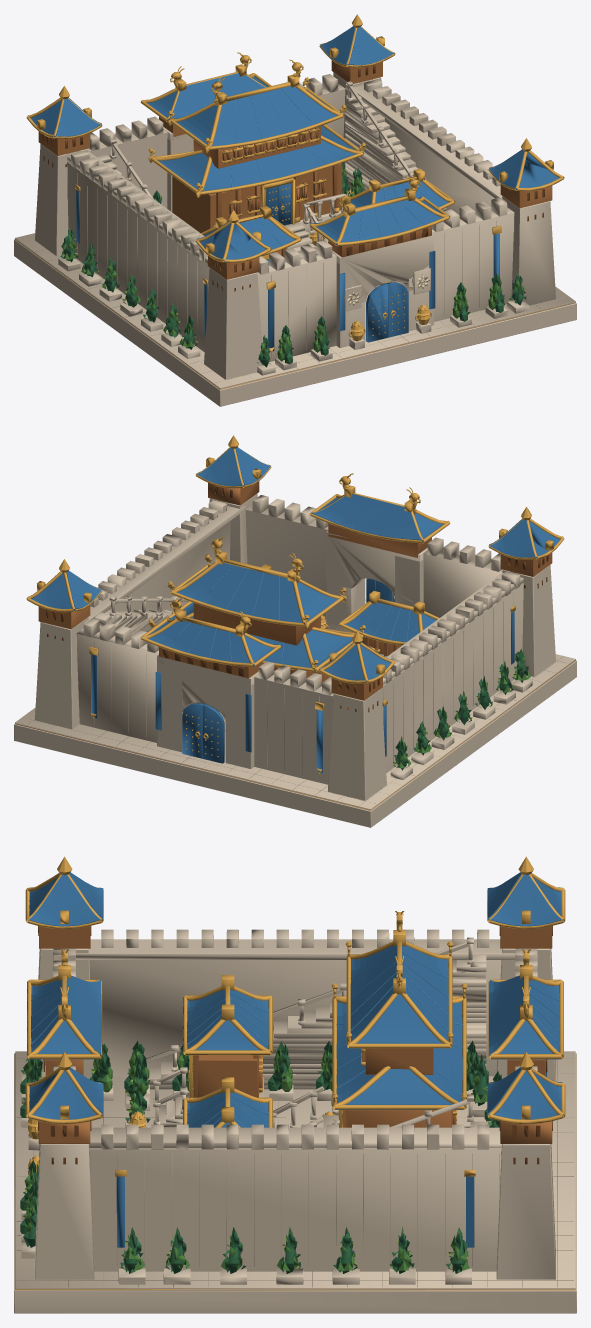
The model's file is city-4-lod1-ac9aa3760c98.glb.
3 renders of one model, top to bottom at view 1: azimuth 30°, elevation 25°; view 2: azimuth 150°, elevation 25°; view 3: azimuth 270°, elevation 25°, orthographic. The views are drawn at different scales.
Visible parts, largest first — view 1: SM_CT4_V4_Batch_106.003, SM_CT4_V4_Batch_9.003, SM_CT4_V4_Batch_105.003, SM_CT4_V4_Batch_7.003, SM_CT4_V4_Batch_102.003, SM_CT4_V4_Batch_103.003, SM_CT4_V4_Batch_5.003, SM_CT4_V4_Batch_8.003, SM_CT4_V4_Batch_1.003, SM_CT4_V4_Batch_98.003; view 2: SM_CT4_V4_Batch_106.003, SM_CT4_V4_Batch_9.003, SM_CT4_V4_Batch_105.003, SM_CT4_V4_Batch_7.003, SM_CT4_V4_Batch_5.003, SM_CT4_V4_Batch_102.003, SM_CT4_V4_Batch_8.003, SM_CT4_V4_Batch_1.003, SM_CT4_V4_Batch_103.003, SM_CT4_V4_Batch_98.003; view 3: SM_CT4_V4_Batch_106.003, SM_CT4_V4_Batch_9.003, SM_CT4_V4_Batch_105.003, SM_CT4_V4_Batch_7.003, SM_CT4_V4_Batch_102.003, SM_CT4_V4_Batch_103.003, SM_CT4_V4_Batch_5.003, SM_CT4_V4_Batch_98.003, SM_CT4_V4_Batch_1.003, SM_CT4_V4_Batch_8.003.
Part boxes in pixels (x1,y1,x2,y2): SM_CT4_V4_Batch_106.003: [14, 72, 576, 406]; SM_CT4_V4_Batch_9.003: [30, 26, 559, 351]; SM_CT4_V4_Batch_105.003: [26, 14, 564, 352]; SM_CT4_V4_Batch_7.003: [38, 60, 552, 279]; SM_CT4_V4_Batch_102.003: [60, 162, 526, 367]; SM_CT4_V4_Batch_103.003: [61, 164, 524, 361]; SM_CT4_V4_Batch_5.003: [25, 166, 567, 383]; SM_CT4_V4_Batch_8.003: [42, 58, 544, 291]; SM_CT4_V4_Batch_1.003: [15, 239, 575, 389]; SM_CT4_V4_Batch_98.003: [231, 88, 427, 245]; SM_CT4_V4_Batch_106.003: [14, 493, 576, 827]; SM_CT4_V4_Batch_9.003: [31, 447, 560, 773]; SM_CT4_V4_Batch_105.003: [26, 435, 564, 773]; SM_CT4_V4_Batch_7.003: [38, 481, 552, 700]; SM_CT4_V4_Batch_5.003: [23, 580, 565, 805]; SM_CT4_V4_Batch_102.003: [393, 649, 528, 770]; SM_CT4_V4_Batch_8.003: [46, 479, 548, 712]; SM_CT4_V4_Batch_1.003: [15, 660, 575, 810]; SM_CT4_V4_Batch_103.003: [395, 648, 530, 768]; SM_CT4_V4_Batch_98.003: [166, 565, 410, 664]; SM_CT4_V4_Batch_106.003: [14, 929, 576, 1313]; SM_CT4_V4_Batch_9.003: [28, 872, 562, 1247]; SM_CT4_V4_Batch_105.003: [25, 856, 565, 1176]; SM_CT4_V4_Batch_7.003: [38, 926, 552, 1143]; SM_CT4_V4_Batch_102.003: [20, 1040, 501, 1273]; SM_CT4_V4_Batch_103.003: [24, 1049, 497, 1271]; SM_CT4_V4_Batch_5.003: [17, 1058, 573, 1287]; SM_CT4_V4_Batch_98.003: [30, 951, 560, 1127]; SM_CT4_V4_Batch_1.003: [15, 1053, 575, 1290]; SM_CT4_V4_Batch_8.003: [38, 914, 552, 1164].
Size of the model in its own units: 10 by 5.12 by 10.
Materials: 12 (4 with a texture image).
